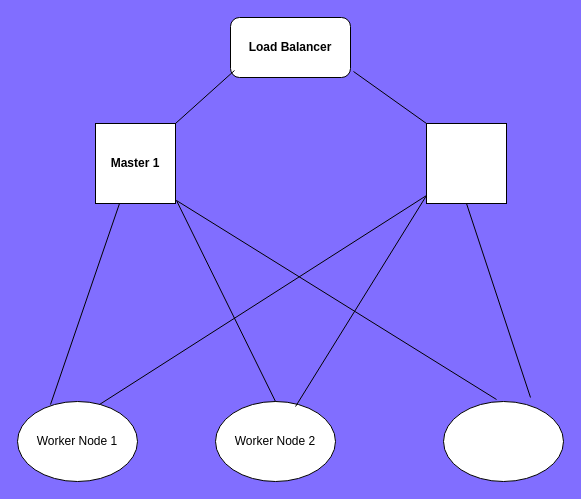
Image size: 581x499. Some labels were removed from this diagram. The shapes that lost their labels are listed below. From the top down, each one's centre as x and y in pixels, then its label:
At point 466,163: "Master 2".
At point 503,441: "Worker Node 3".
